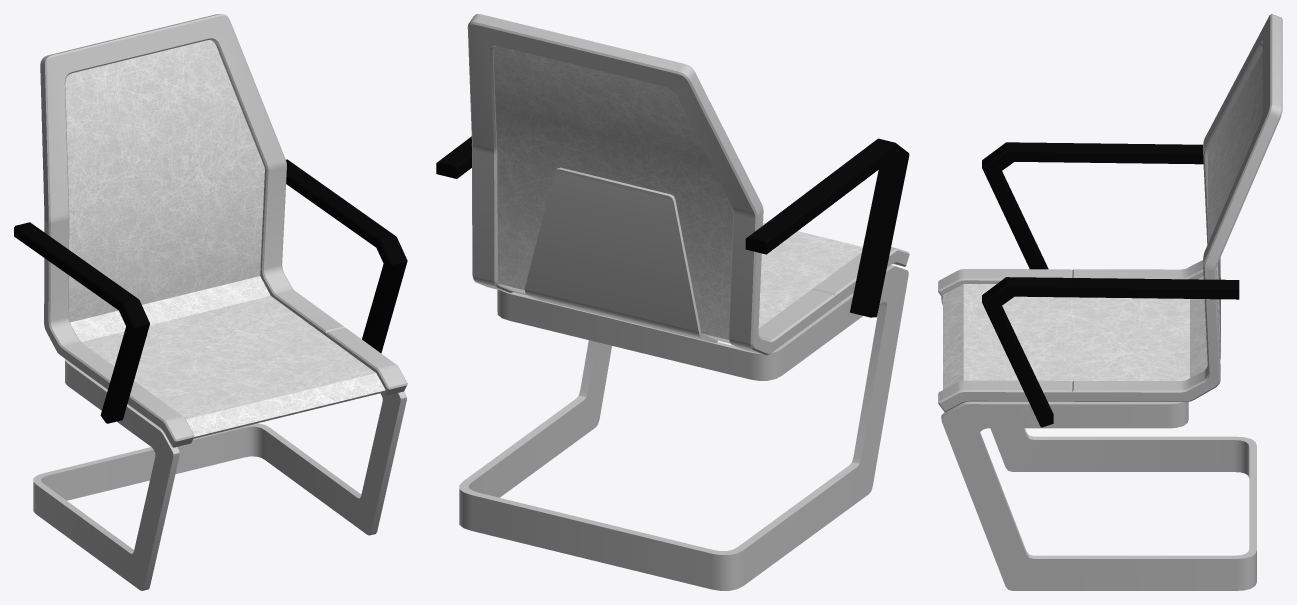
The model's file is D_Chair_003.fbx.
3 renders of one model, left to right at view 1: azimuth 30°, elevation 25°; view 2: azimuth 150°, elevation 25°; view 3: azimuth 270°, elevation 25°, orthographic. The views are drawn at different scales.
Parts seen in each view (by area): view 1: D_Chair_003; view 2: D_Chair_003; view 3: D_Chair_003.
Part boxes in pixels (x1,y1,x2,y2): D_Chair_003: (14, 14, 407, 590); D_Chair_003: (436, 14, 909, 590); D_Chair_003: (938, 14, 1282, 590).
Size of the model in its own units: 0.7973 by 1.22 by 0.8075.
